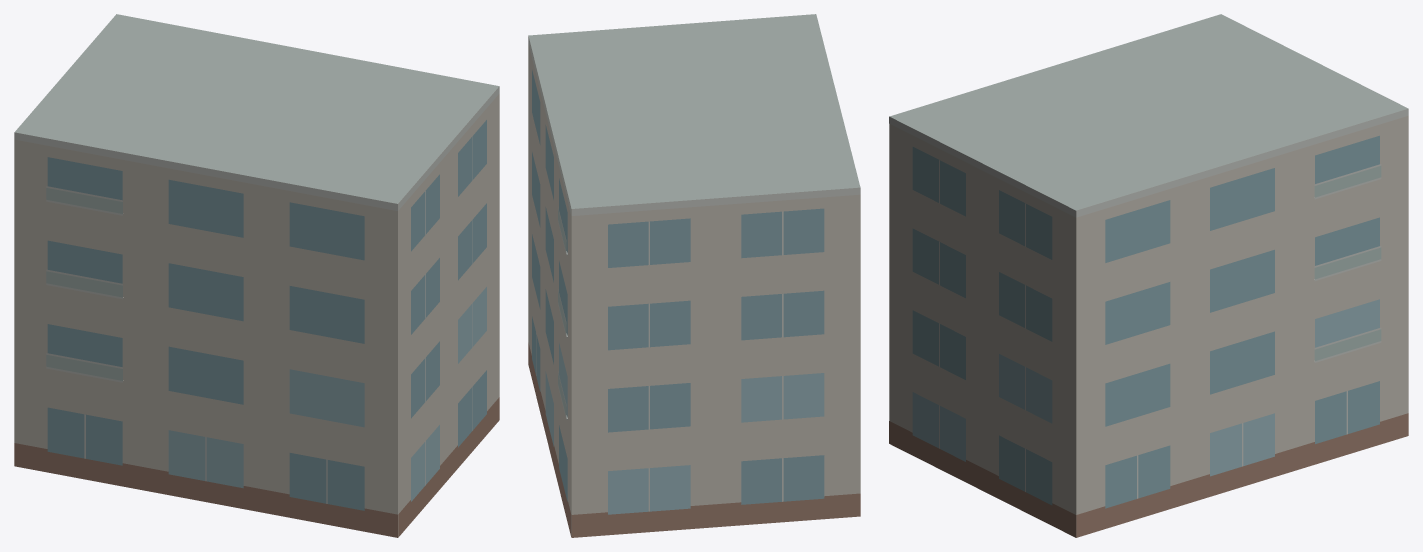
The model's file is survey-upis-32940783.glb.
The picture shows the model from 3 angles, left to right: view 1: azimuth 30°, elevation 25°; view 2: azimuth 150°, elevation 25°; view 3: azimuth 270°, elevation 25°; orthographic projection. The views are drawn at different scales.
Parts seen in each view (by area): view 1: survey-upis-32940783.tmp; view 2: survey-upis-32940783.tmp; view 3: survey-upis-32940783.tmp.
Boxes of the visible parts, bbox=[...] form: survey-upis-32940783.tmp: bbox=[14, 14, 499, 537]; survey-upis-32940783.tmp: bbox=[528, 14, 860, 537]; survey-upis-32940783.tmp: bbox=[889, 14, 1408, 537].
Bounding box in the file's own units: 14.64 × 11.35 × 16.34.
